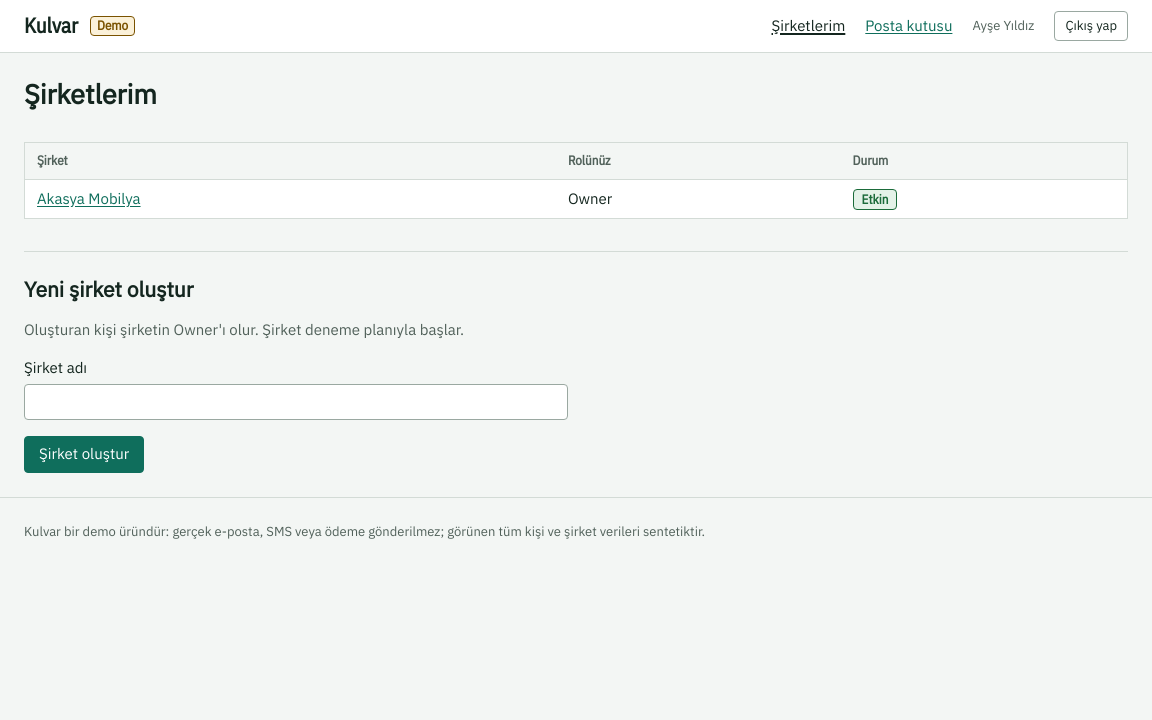
oturum ve önbellek › çıkışta sunucuya CSRF başlıklı istek gider ve önceki kullanıcının verisi bellekte kalmaz
Expected: the link "Akasya Mobilya" is shown, 37,189 -> 141,208
Click the button "Çıkış yap" at {"x": 1091, "y": 26}, box 1054,11 -> 1128,41
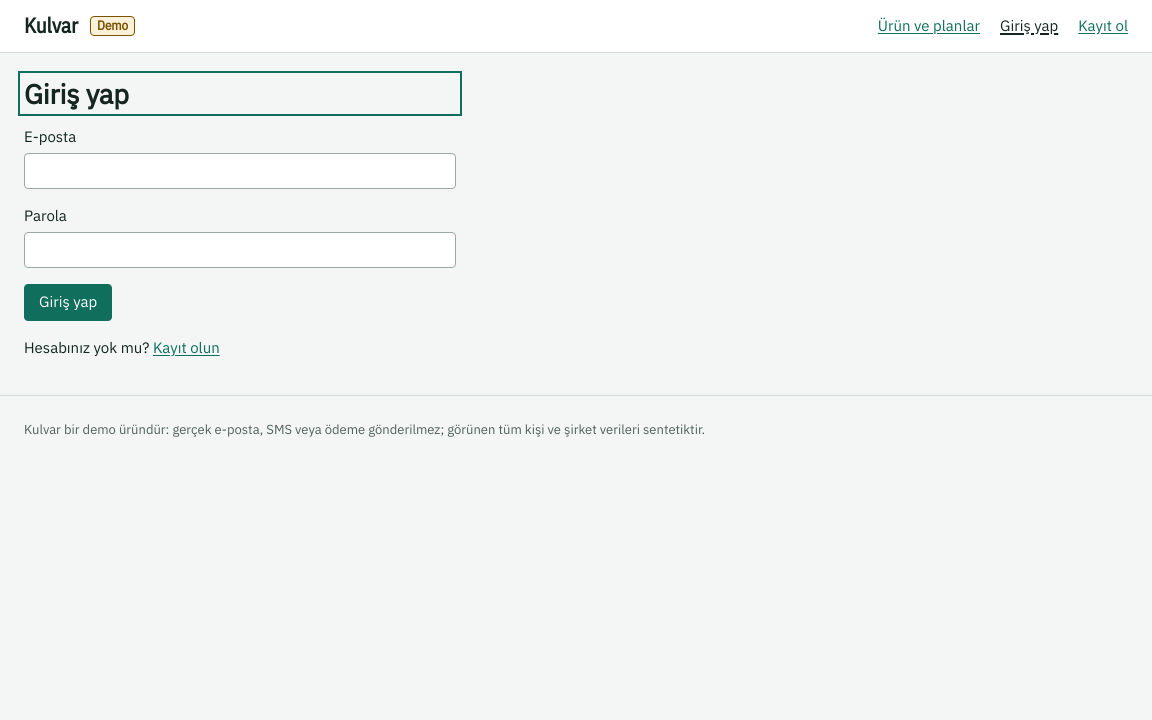
Expected: the heading "Giriş yap" is shown, 24,76 -> 129,110
